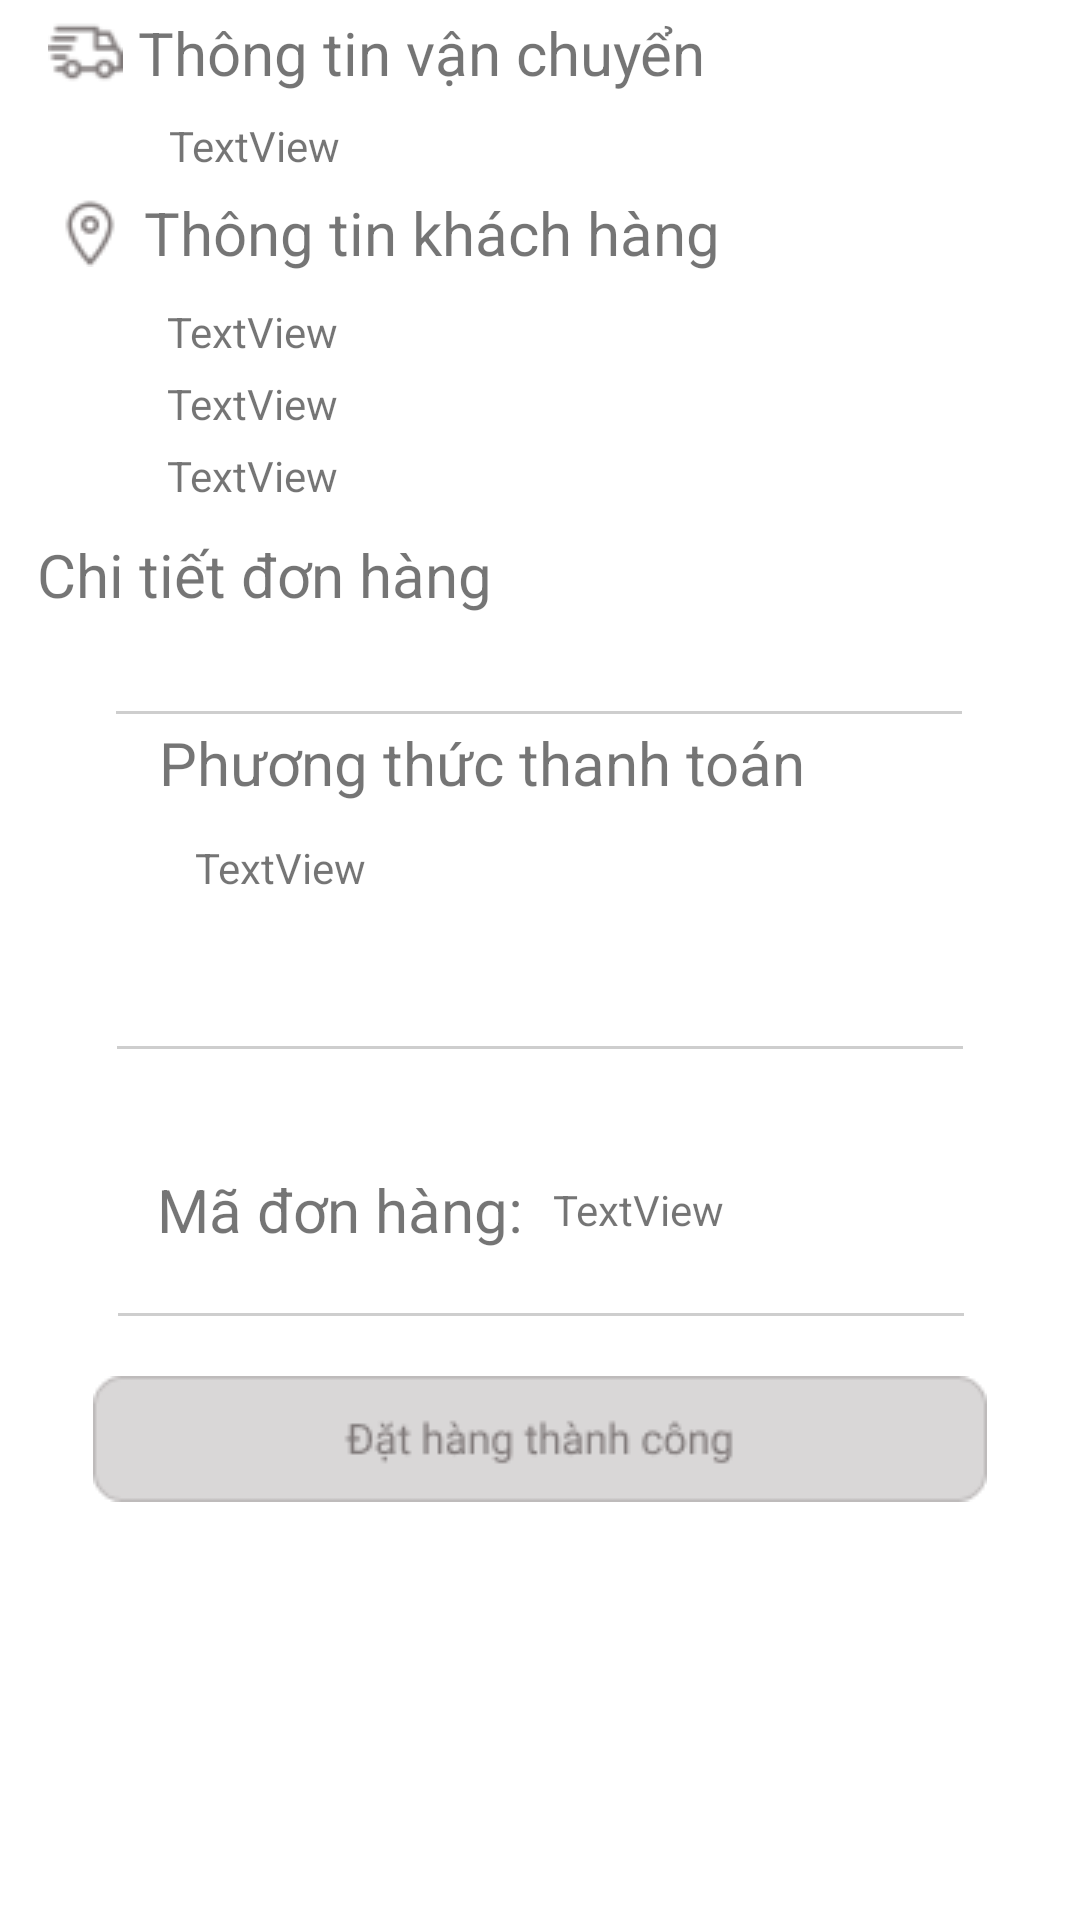

Point at icon controls on the screen. Image size 1080px×1920px, points as [x,y].
delivery: [85,52]
location: [90,233]
